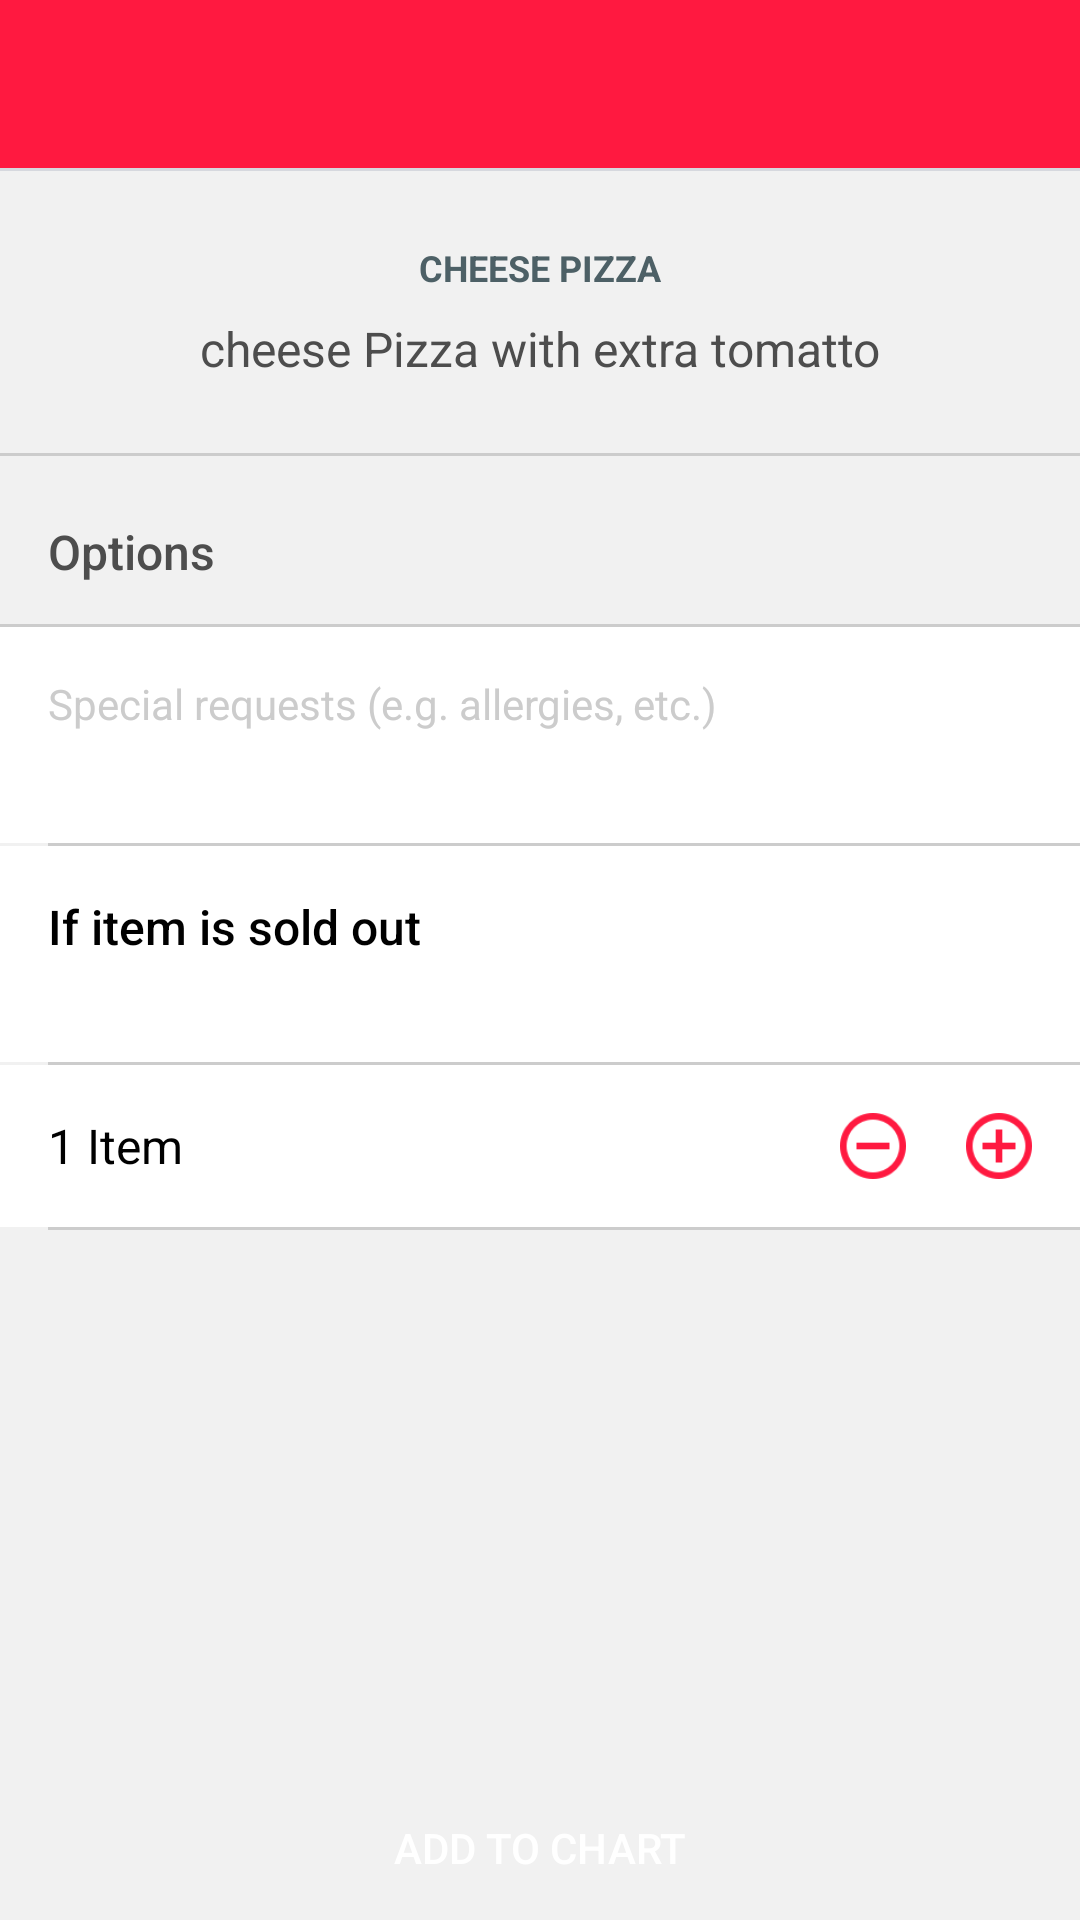

Named icons in this screenshot (1080 x 1920) and their bounding boxes, (x1, y1, x2, y2):
add: (966, 1113, 1032, 1179)
remove: (840, 1113, 906, 1179)
